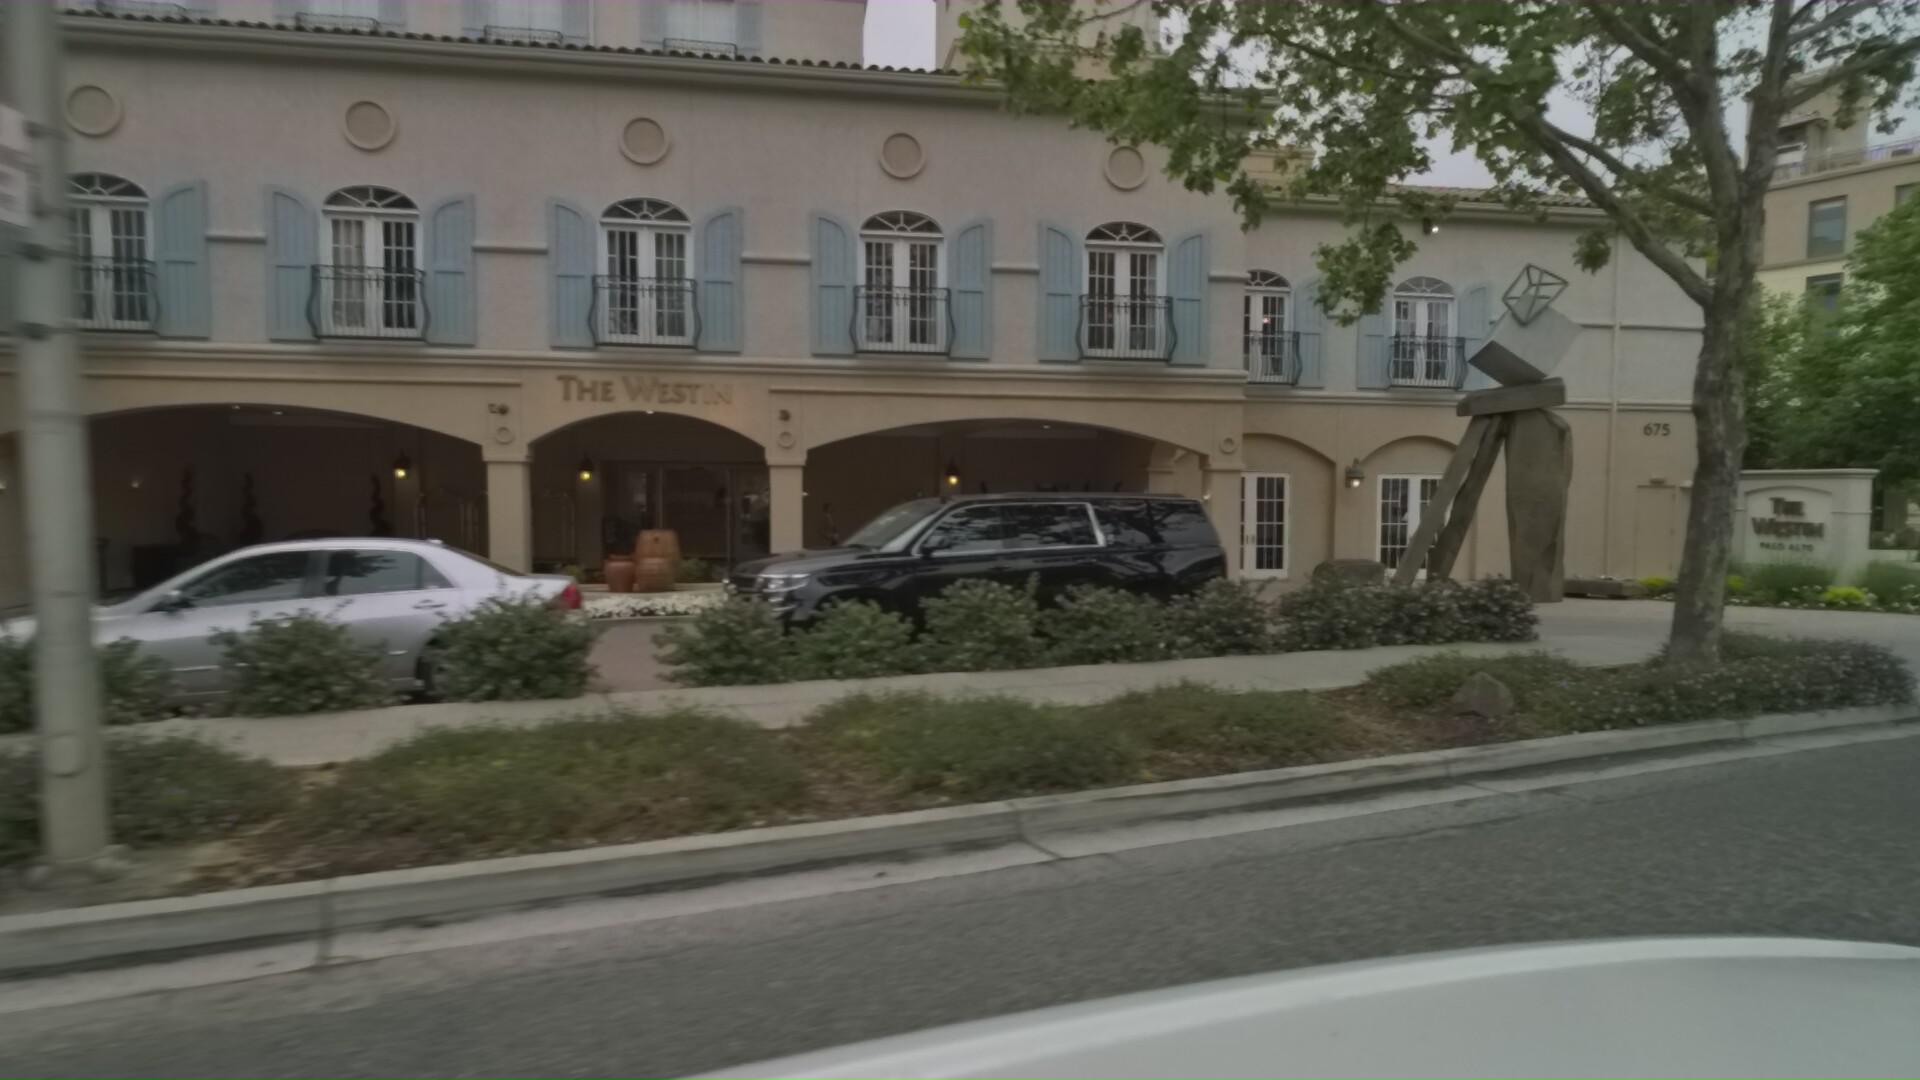car: (0, 524, 666, 748), (741, 485, 1282, 691)
